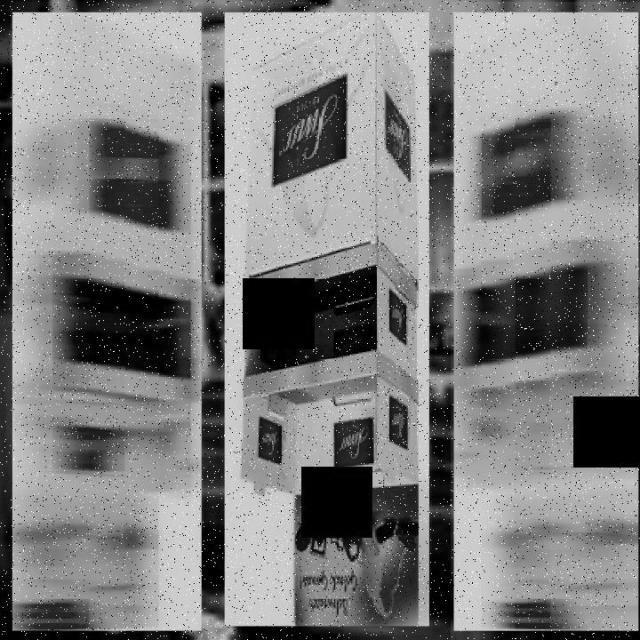box: (220, 2, 432, 636), (10, 2, 204, 640), (451, 2, 640, 640)
